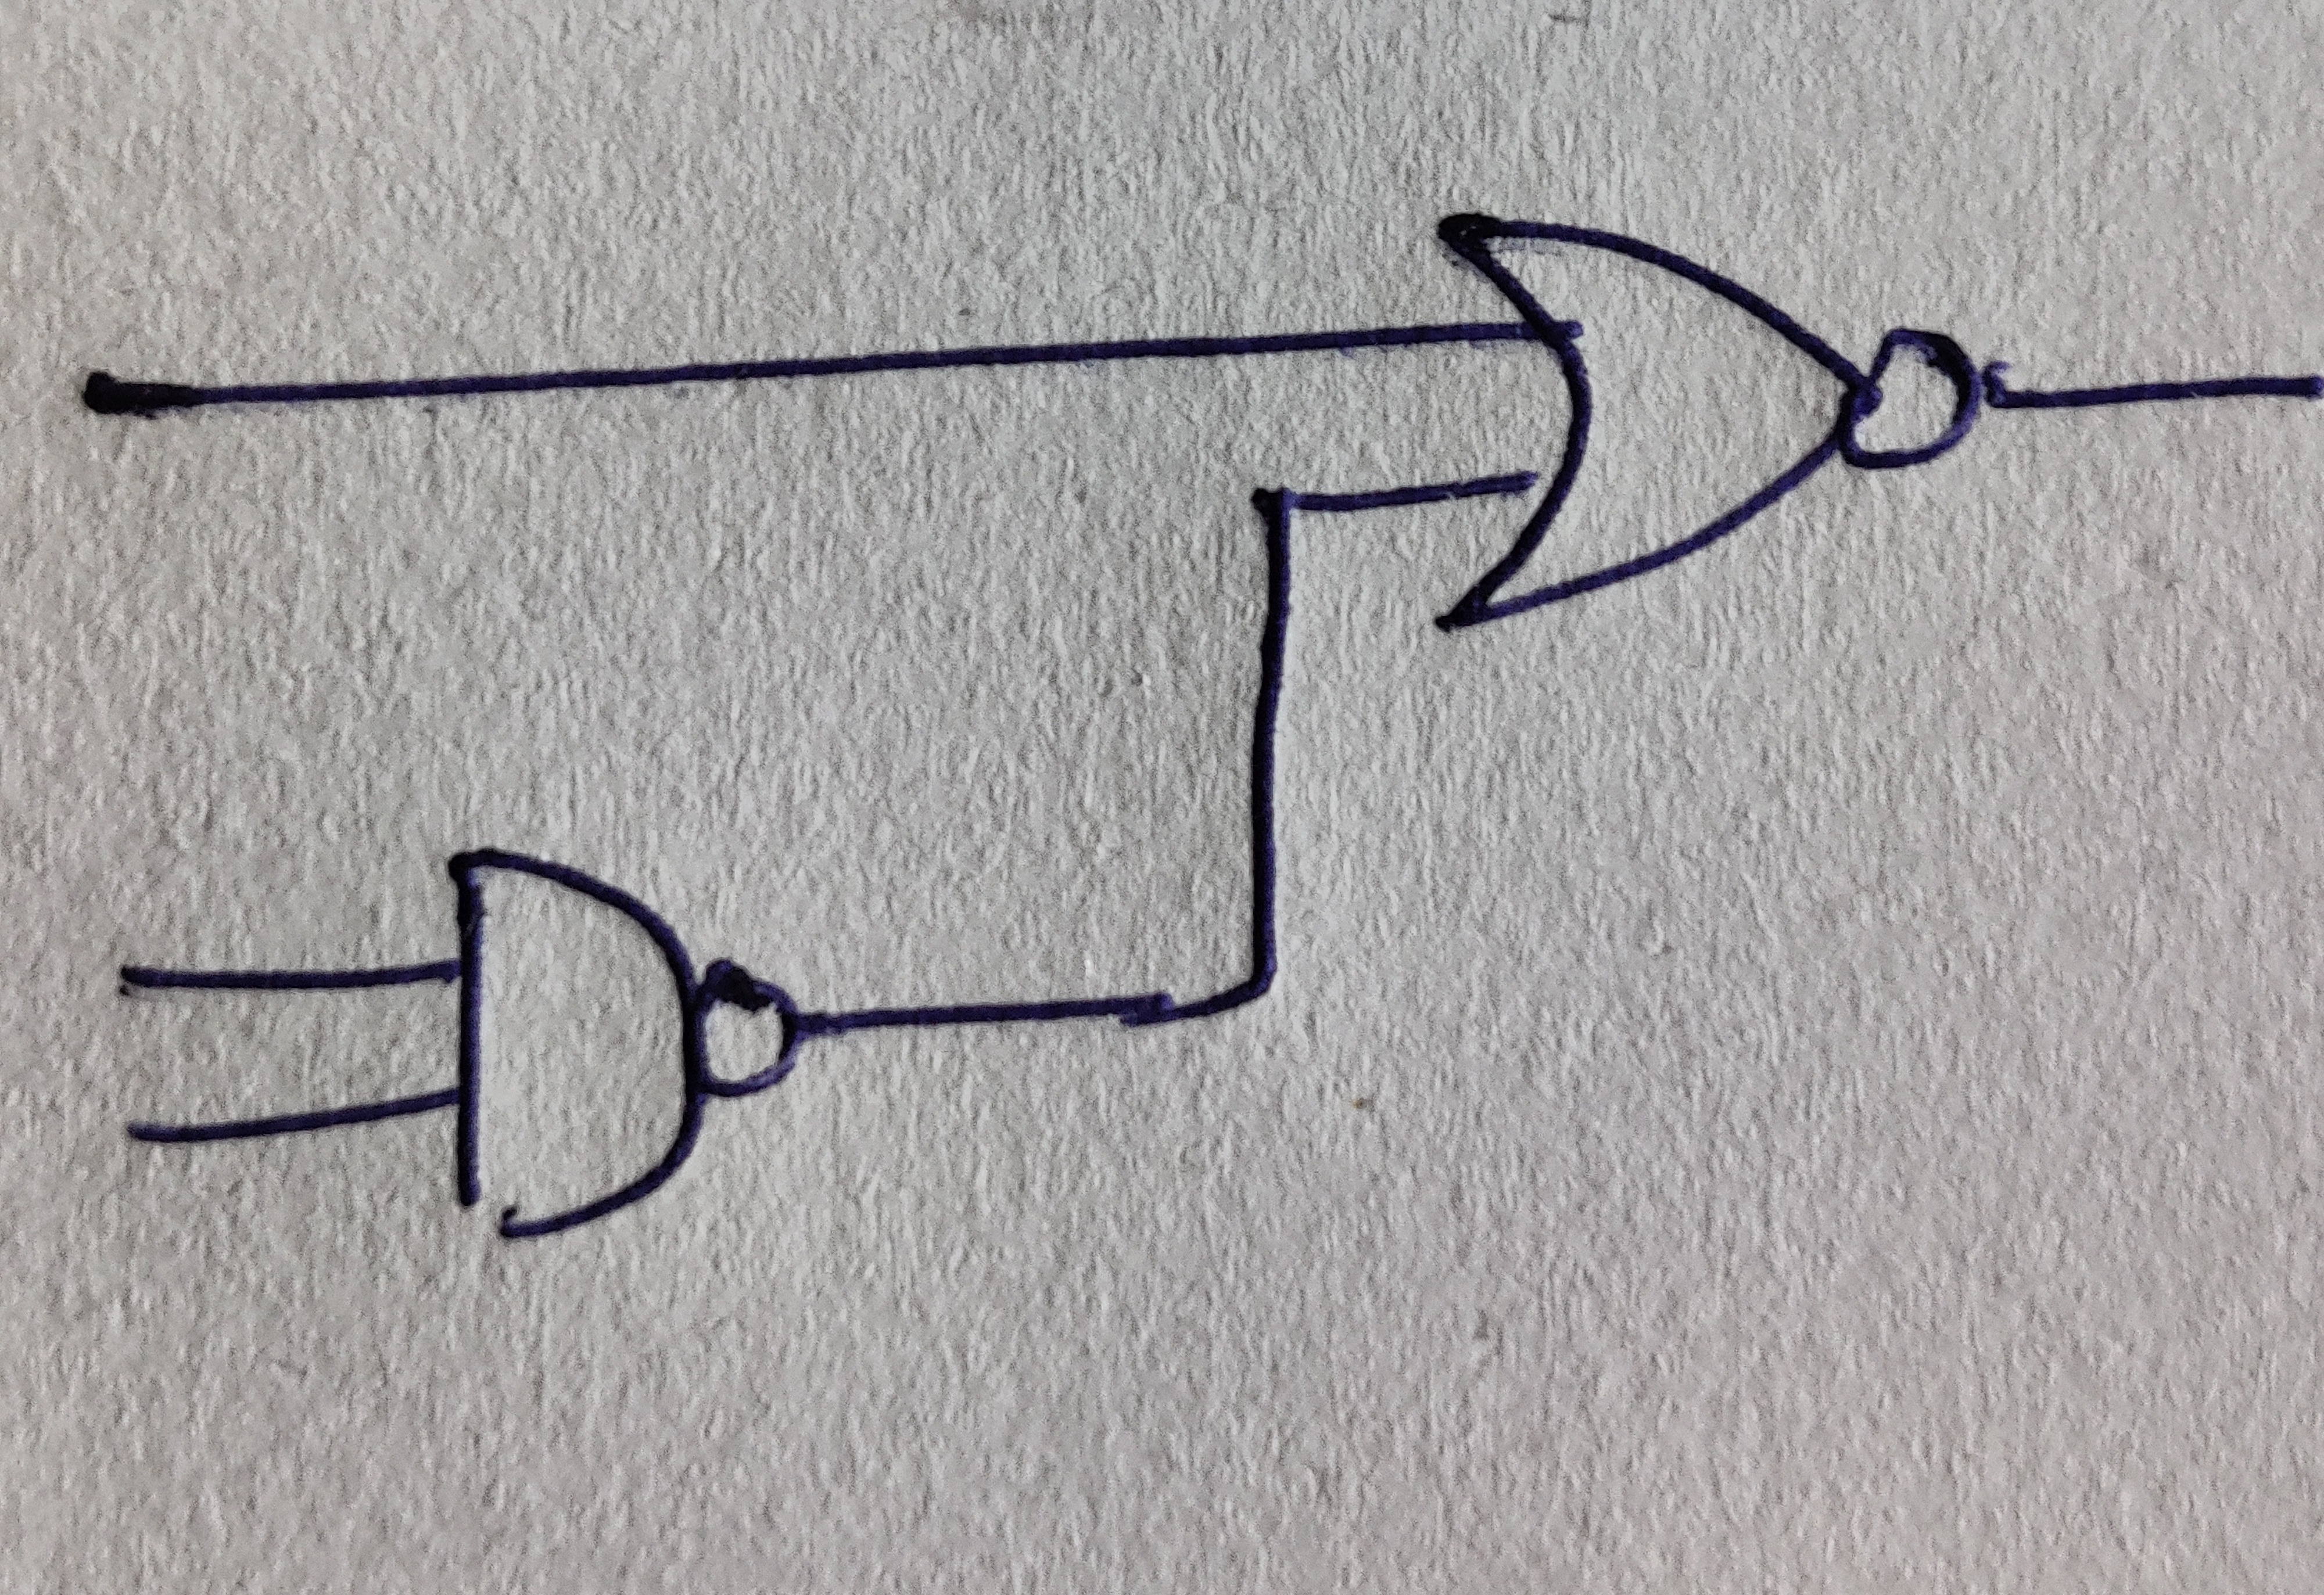and: (450, 850, 701, 1240)
not: (1838, 330, 1980, 470), (698, 959, 798, 1100)
or: (1434, 210, 1881, 629)
